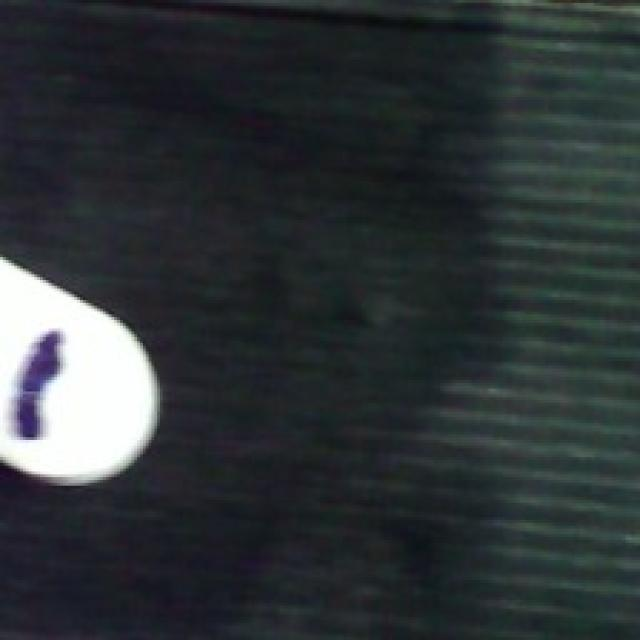defected: (0, 245, 163, 491)
